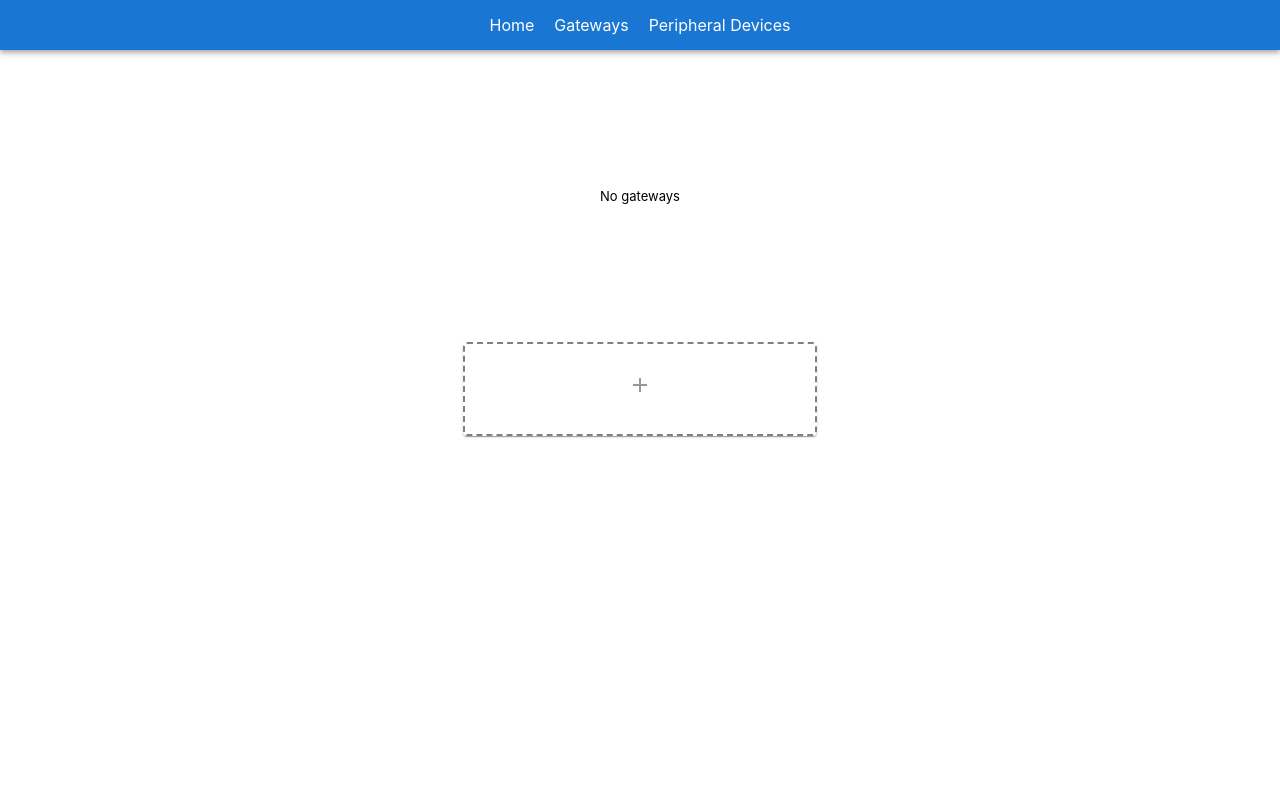
Scenario: gateways tests › gateway CRUD › opens create gateway dialog
This screenshot has width=1280, height=800.
Click the element with test id "gateway_add_card" at (640, 385), box 628,373 -> 652,397
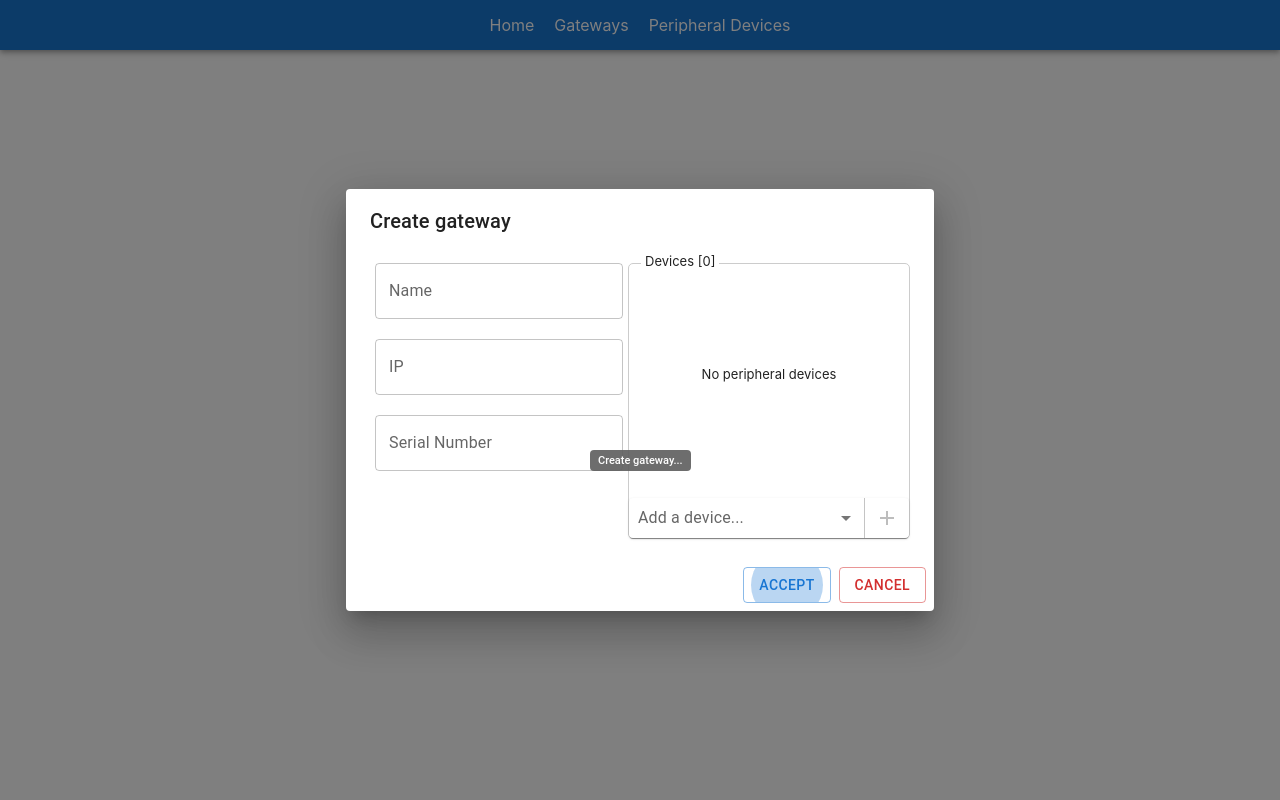
Now the heading "Create gateway" is shown, box 370,209 -> 511,233
